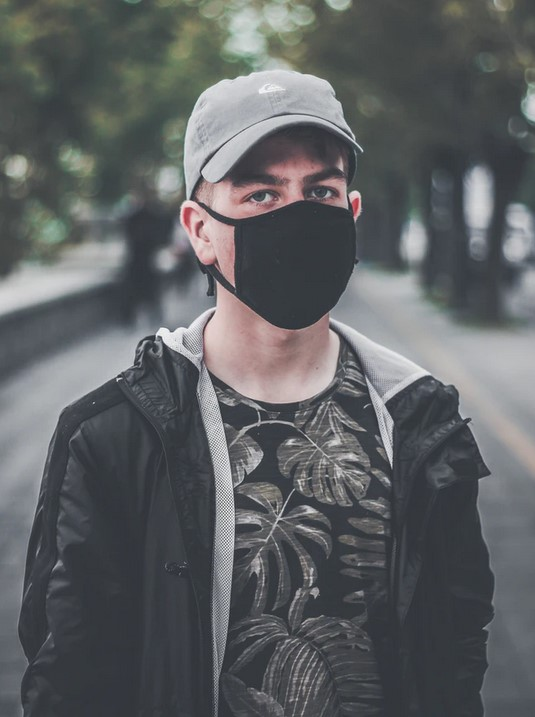face_with_mask: (180, 69, 370, 336)
